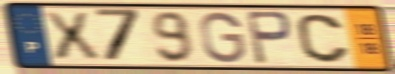7: (92, 7, 144, 66)
9: (150, 10, 198, 65)
C: (294, 12, 353, 65)
G: (198, 11, 248, 65)
P: (243, 9, 295, 67)
X: (40, 10, 104, 62)
